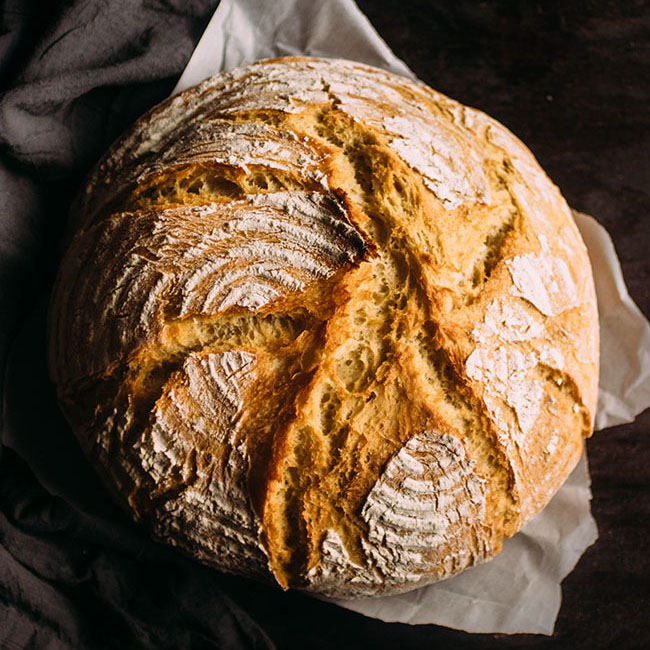Bread: (52, 33, 611, 595)
